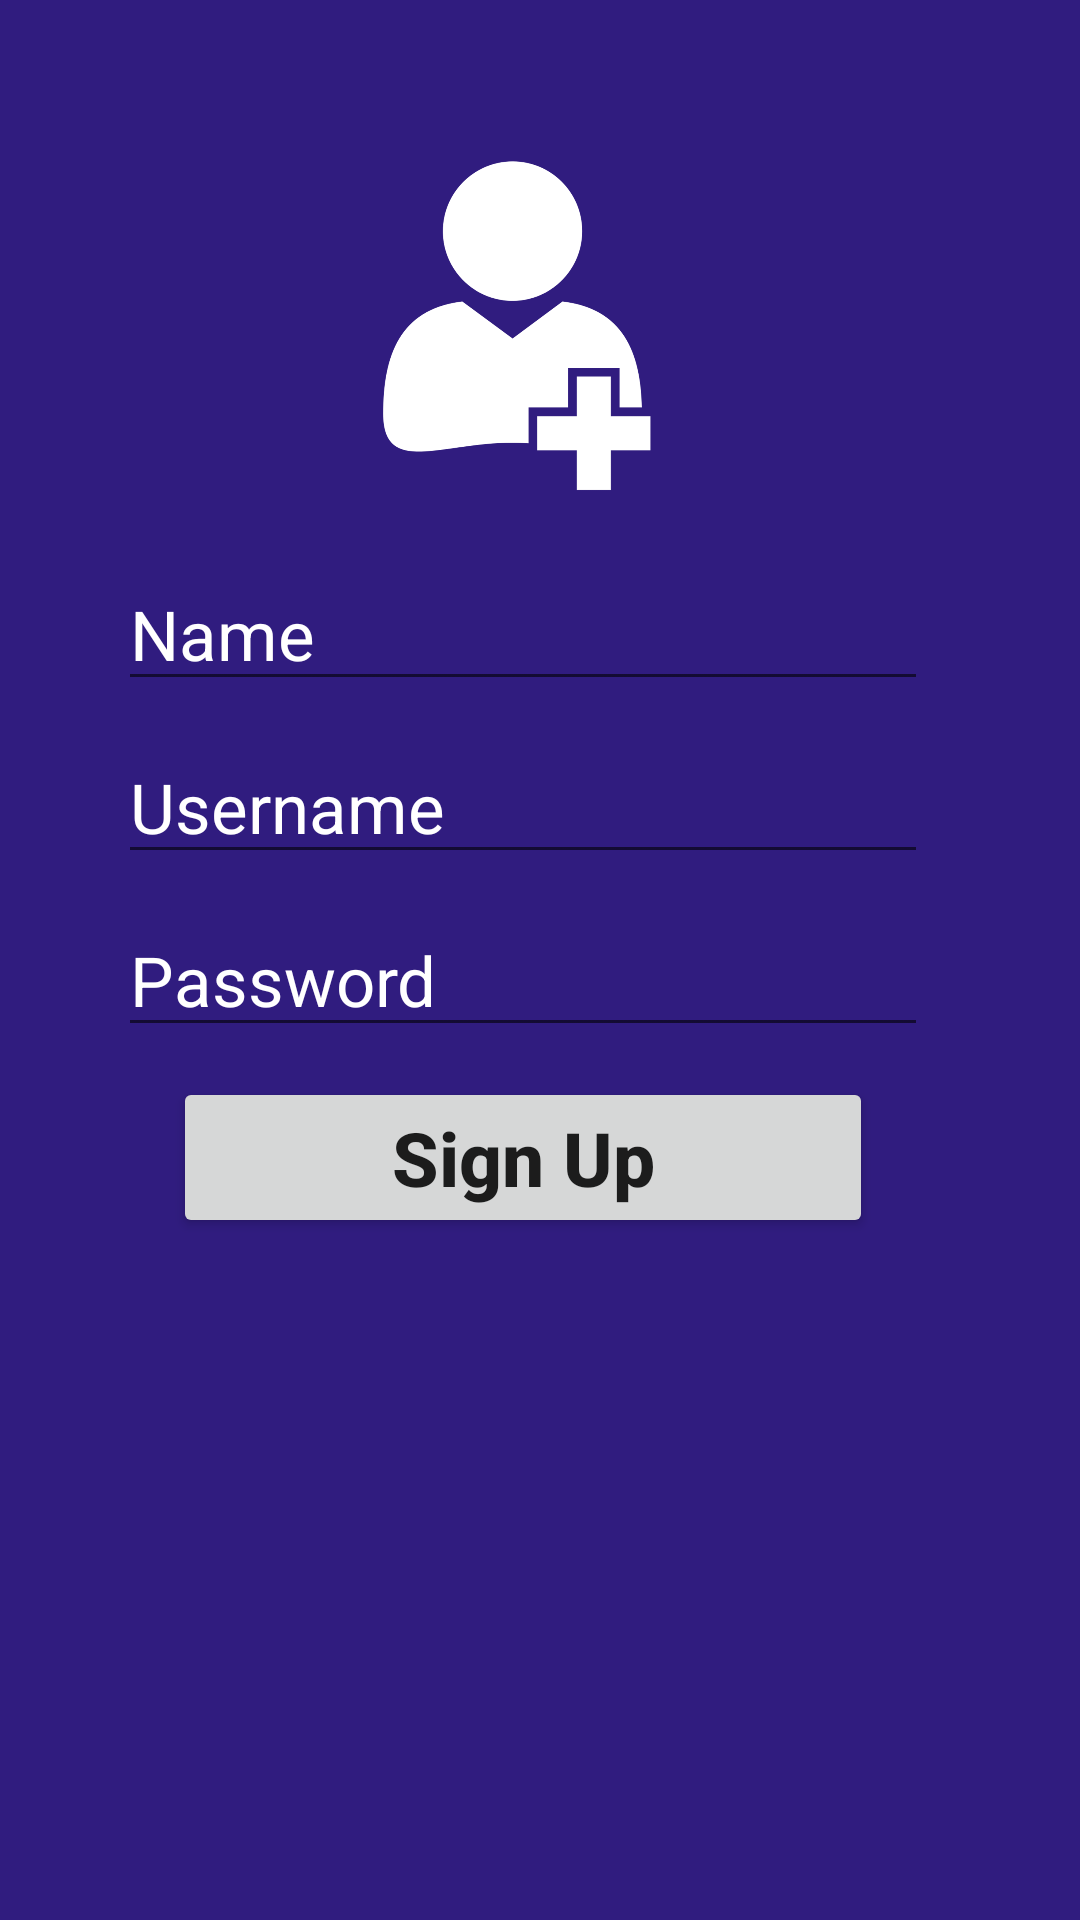

Icons on this 1080*1920 Android screen, each with its box as {"x1": x1, "y1": y1, "x2": x2, "y2": y2}:
signupwhite: {"x1": 383, "y1": 161, "x2": 651, "y2": 490}
